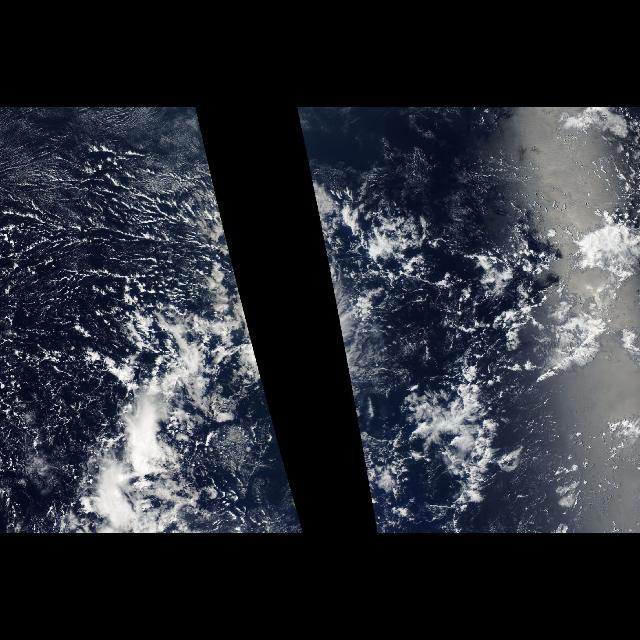Gravel: (362, 203, 618, 503), (0, 144, 212, 506)
Sugar: (0, 108, 202, 154)
